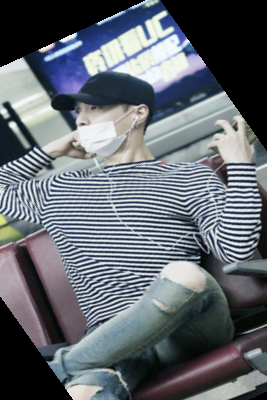mask_weared_incorrect: (47, 62, 164, 163)
